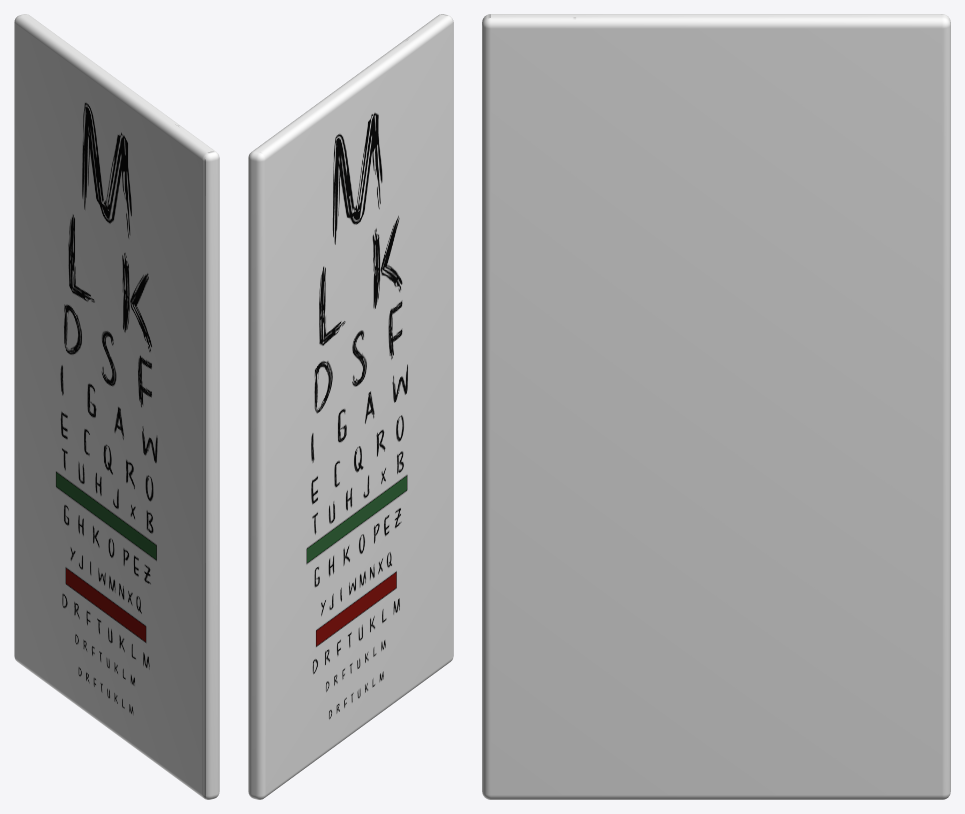
File: Eye Sight Test.fbx
3 views of the same model, side by side, from view 1: azimuth 30°, elevation 25°; view 2: azimuth 150°, elevation 25°; view 3: azimuth 270°, elevation 25° (orthographic). The views are drawn at different scales.
Visible parts, largest first — view 1: Eye_Sight_Test; view 2: Eye_Sight_Test; view 3: Eye_Sight_Test.
Part boxes in pixels (left/top/right/bottom): Eye_Sight_Test: left=14, top=14, right=219, bottom=799; Eye_Sight_Test: left=248, top=14, right=453, bottom=799; Eye_Sight_Test: left=482, top=14, right=950, bottom=799.
Size of the model in its own units: 5.22 by 196 by 106.
